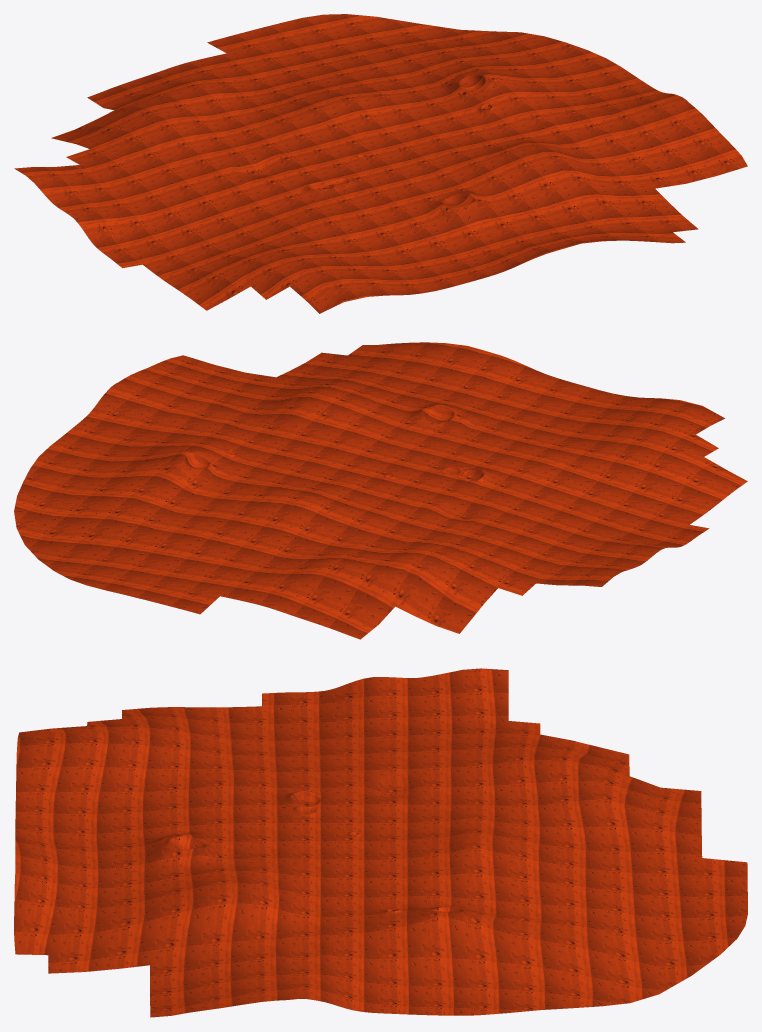
File: mars_ground_1.glb
The picture shows the model from 3 angles, top to bottom: view 1: azimuth 30°, elevation 25°; view 2: azimuth 150°, elevation 25°; view 3: azimuth 270°, elevation 25°; orthographic projection. The views are drawn at different scales.
Visible parts, largest first — view 1: Plane.008; view 2: Plane.008; view 3: Plane.008.
Part boxes in pixels (x1,y1,x2,y2): Plane.008: (14, 14, 747, 313); Plane.008: (14, 342, 747, 639); Plane.008: (14, 668, 747, 1017).
Bounding box in the file's own units: 1314 × 85.04 × 1263.
1 material, 1 textured.
